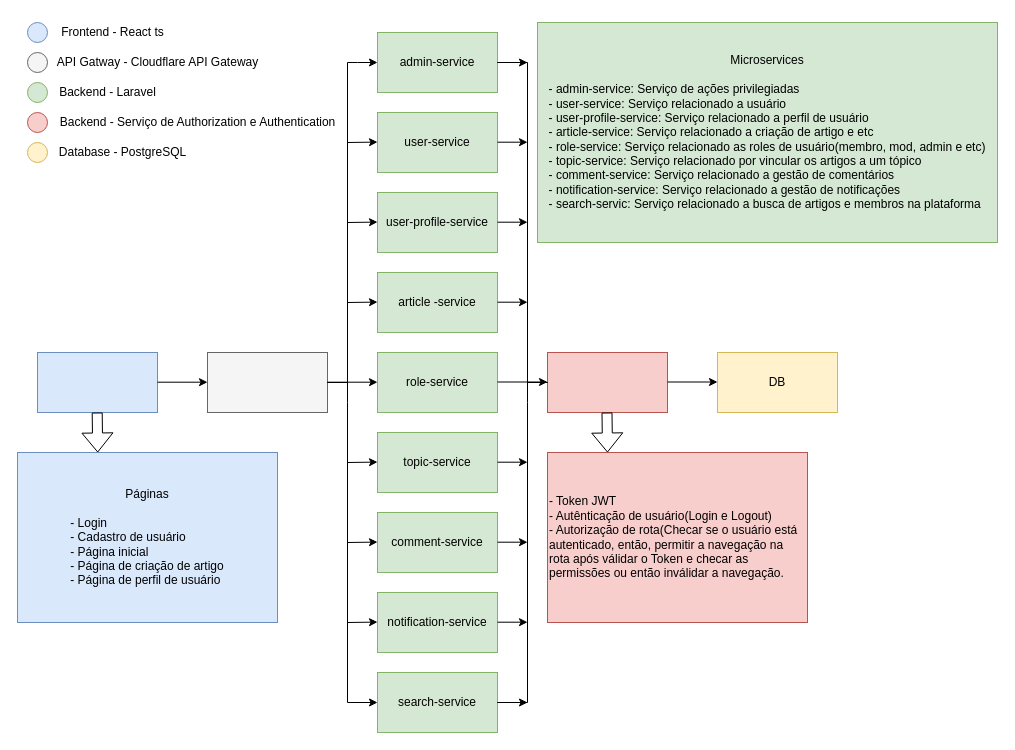
Image size: 1015x750. Some labels were removed from this diagram. The shapes that lost their labels are listed below. From the top down, each one's box as (x1, y1, x2, y2) in pixels, then its label:
(36, 352, 158, 412): Frontend
(206, 352, 328, 412): API Gatway
(546, 352, 668, 412): auth-service
